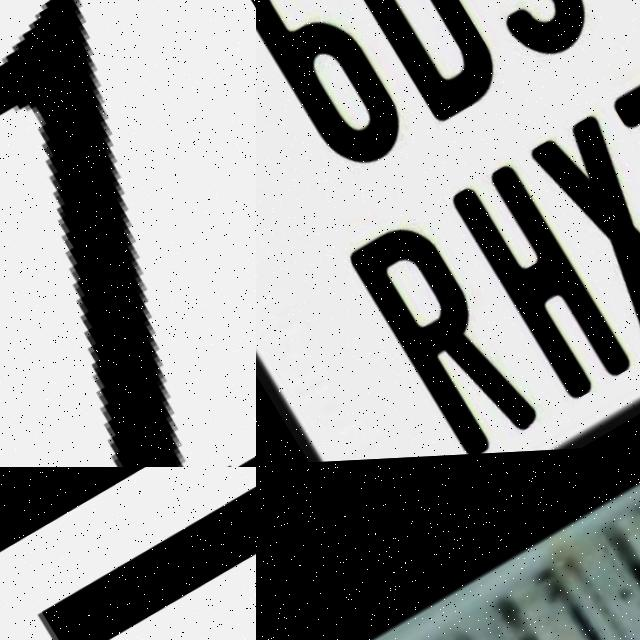1: (0, 0, 256, 467), (509, 560, 614, 640)
5: (399, 0, 600, 81)
6: (256, 0, 414, 187)
D: (309, 0, 516, 137)
H: (435, 158, 627, 412)
R: (334, 213, 531, 462)
T: (599, 65, 640, 323)
X: (517, 112, 640, 366)
Z: (9, 467, 256, 640)
